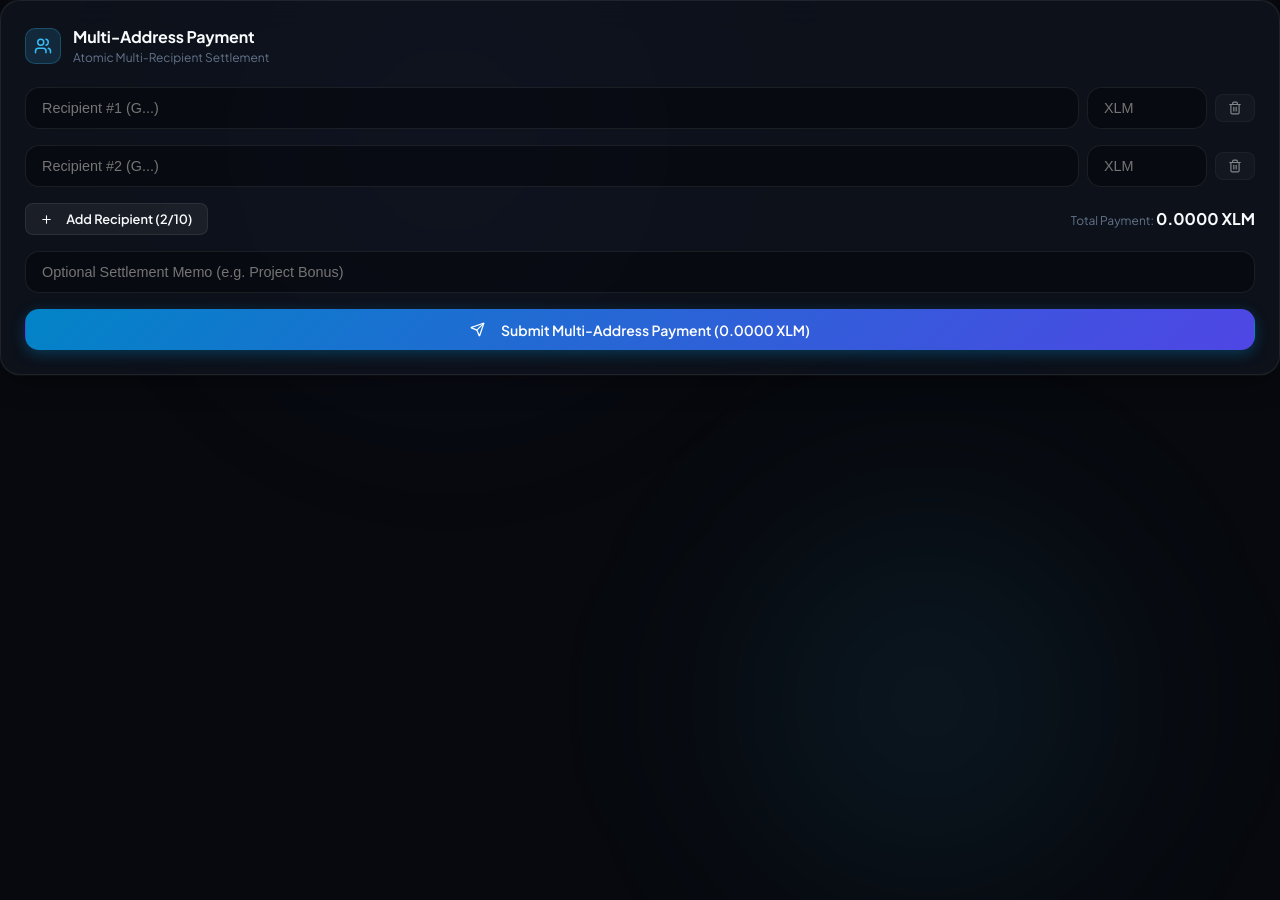
it: Multi-Recipient & Split Payments › MultiPaymentForm Calculations and Validation › calculates total correctly and checks against spendable balance
Expected: the element with test id "multi-payment-form" is shown, [0,0,1279,375]
Expected: the text "0.0000 XLM" is shown, [1156,208,1255,229]
Add a third recipient
Click the button with test id "add-recipient-btn" at {"x": 116, "y": 219}, box [25,203,208,235]
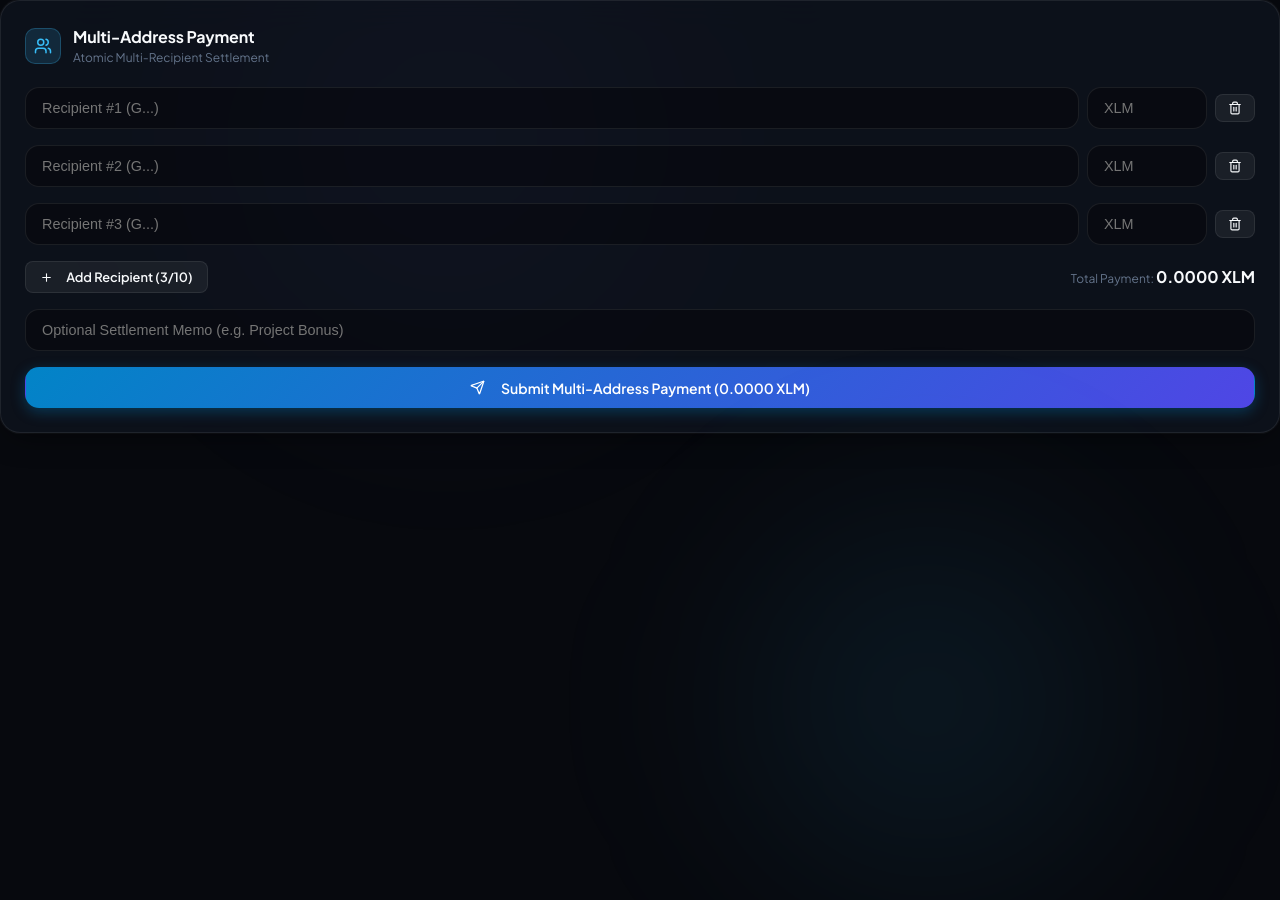
Expected: the field with test id "multi-recipient-2" is shown, [25,203,1079,245]
